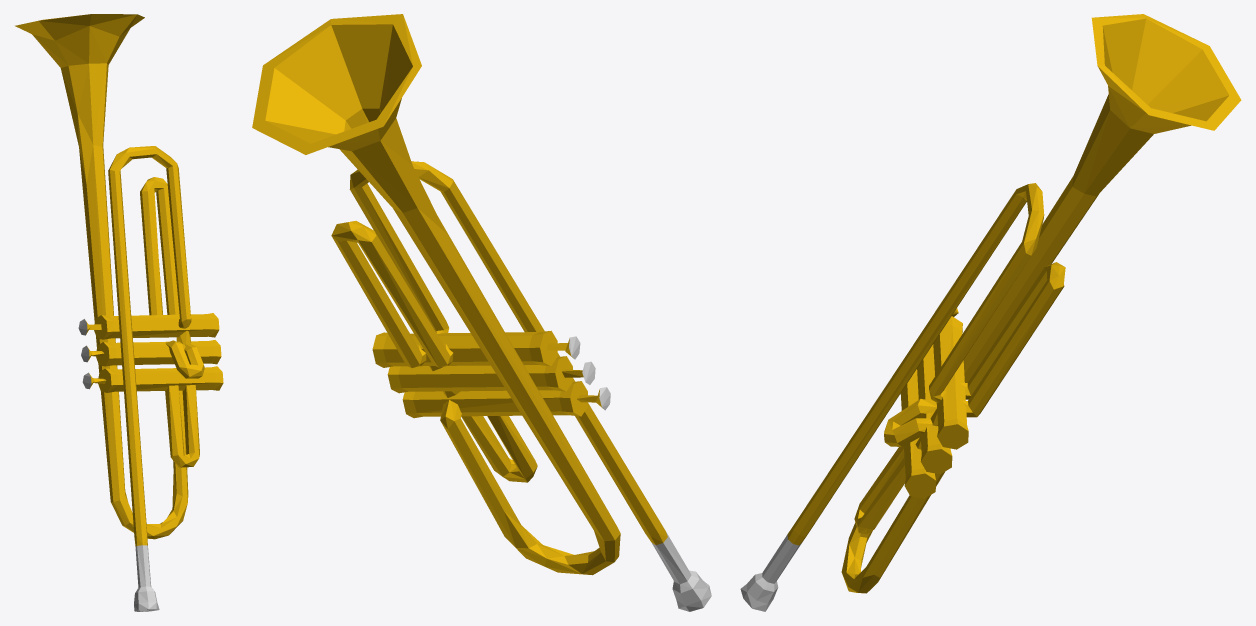
File: Trompeta.fbx
3 views of the same model, side by side, from view 1: azimuth 30°, elevation 25°; view 2: azimuth 150°, elevation 25°; view 3: azimuth 270°, elevation 25° (orthographic). The views are drawn at different scales.
Visible parts, largest first — view 1: Cylinder.073; view 2: Cylinder.073; view 3: Cylinder.073.
Part boxes in pixels (x1,y1,x2,y2): Cylinder.073: (15,14,223,611); Cylinder.073: (252,14,711,611); Cylinder.073: (740,14,1241,611).
Bounding box in the file's own units: 277 × 812 × 579.
